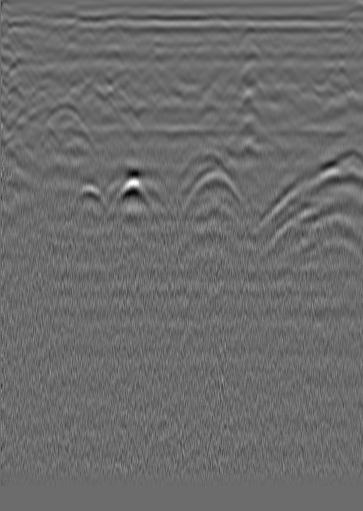가스: (65, 182, 108, 216)
상수: (309, 31, 329, 51)
오수: (28, 30, 48, 50)
우수: (179, 39, 199, 59)
